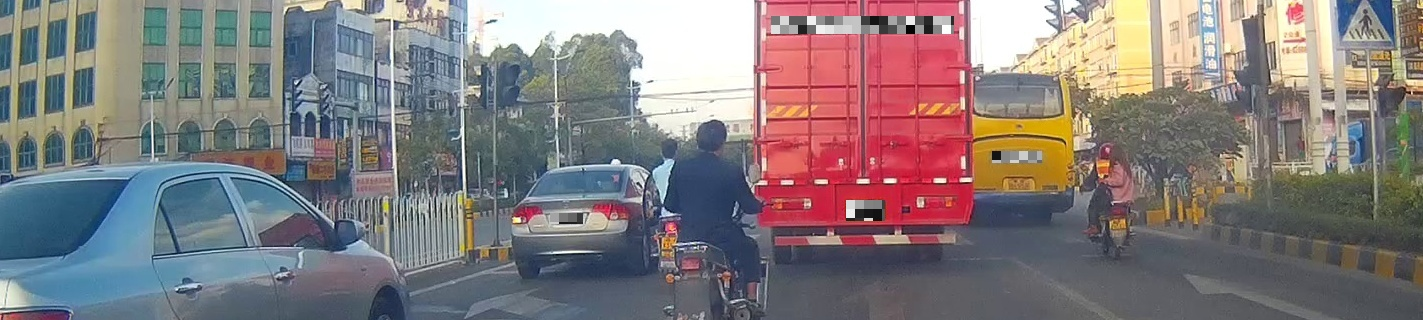L_light: (510, 204, 543, 224)
R_light: (591, 201, 633, 221)
T_light: (573, 170, 590, 176)
day-left: (510, 164, 652, 276)
plate_1: (550, 213, 583, 224)
plate_2: (771, 16, 954, 34)
plate_3: (846, 200, 885, 221)
plate_4: (992, 151, 1042, 163)
